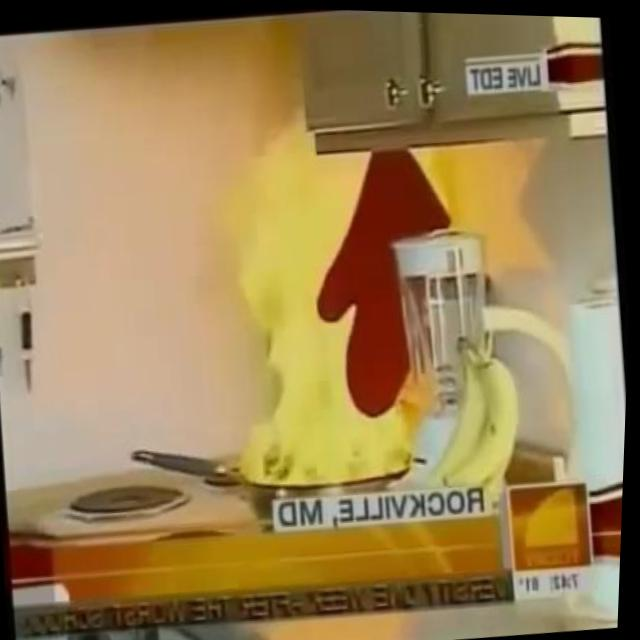fire: (203, 97, 450, 497)
